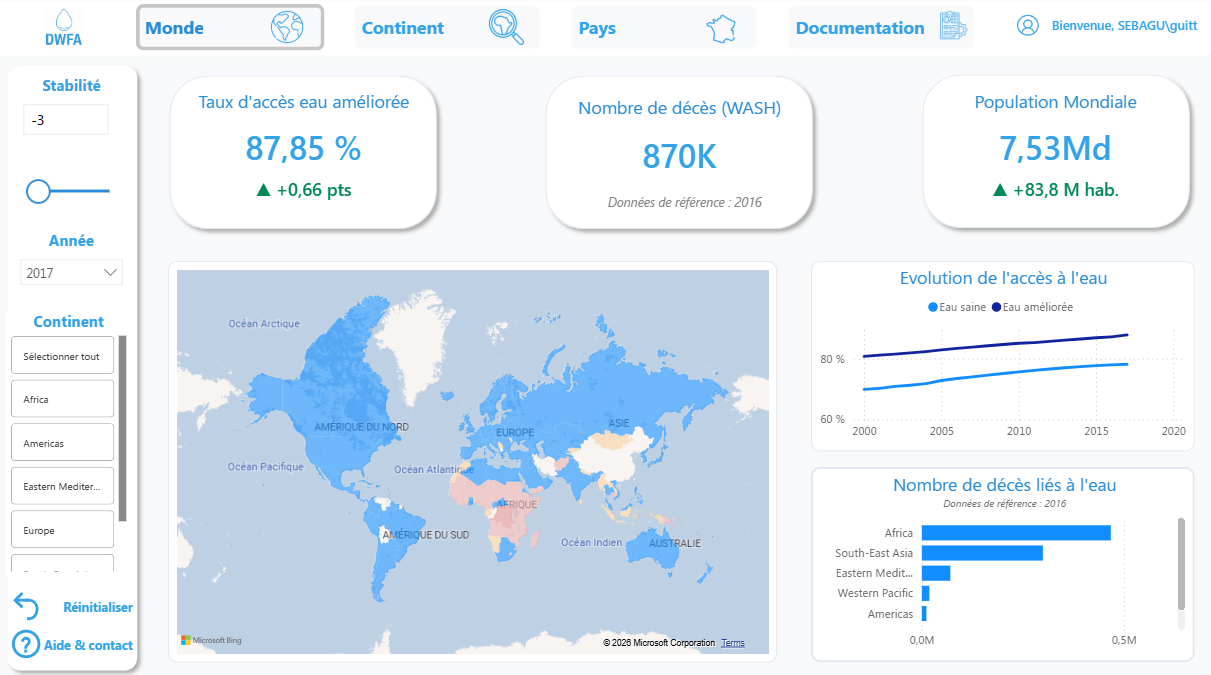

This screenshot's page, from the dashboard's own definition file:
{"tool":"powerbi","page":{"name":"Monde","canvas":[1280,720],"ordinal":0},"visuals":[{"type":"shape","box":[0,63.3,155,656.7],"z":0},{"type":"filledMap","fields":{"Category":["Dim_Country.Country"]},"box":[178.6,278.6,642.9,424.3],"z":1000},{"type":"shape","box":[170.6,74.3,300,180],"z":2000,"group":"g3"},{"type":"lineChart","title":"Evolution de l''accès à l''eau","fields":{"Category":["Dim_year.Year"],"Y":["_Mesures.Taux_Eau_Potable_Total","_Mesures.Taux_Eau_Basique_Total"]},"box":[857.6,278.8,404.7,201.2],"z":2000},{"type":"shape","box":[568.5,73.8,300,180],"z":3000,"group":"g2"},{"type":"barChart","title":"Nombre de décès liés à l''eau","fields":{"Category":["Dim_Country.Continent"],"Y":["_Mesures.Total_Morts_WASH"]},"box":[857.5,496.2,405,206.2],"z":3000},{"type":"shape","box":[966.4,72.6,300,180],"z":4000,"group":"g1"},{"type":"actionButton","box":[12.5,662.5,132.5,40],"z":4000},{"type":"actionButton","box":[12.5,622.5,132.5,40],"z":5000},{"type":"shape","box":[12.7,188.2,110.9,38.2],"z":6000},{"type":"group","id":"g1","title":"Groupe 1","box":[966.4,72.6,300,180],"z":7000},{"type":"group","id":"g2","title":"Groupe 2","box":[568.5,73.8,300,180],"z":8000},{"type":"group","id":"g3","title":"Groupe 3","box":[170.6,74.3,300,180],"z":9000},{"type":"shape","box":[0,0,1280,62.9],"z":10000},{"type":"image","box":[46,6.7,44,52],"z":11000},{"type":"cardVisual","fields":{"Data":["Projects_plans.Message_Bienvenue"]},"box":[1106.8,0,169.9,56.2],"z":12000},{"type":"image","box":[1074.7,16.1,22.7,28.1],"z":13000},{"type":"cardVisual","title":"Taux d''accès eau améliorée","fields":{"Data":["_Mesures.Tx_eau_amelioree_total","_Mesures.Affichage_evolution_eau_amelioree_"]},"box":[198.8,97.8,244.7,140],"z":13000,"group":"g3"},{"type":"pageNavigator","box":[144.7,7.1,887.1,49.4],"z":14000},{"type":"cardVisual","title":"Nombre de décès (WASH)","fields":{"Data":["_Mesures.Total_Morts_WASH"]},"box":[591.7,103.8,254.5,98.2],"z":14000,"group":"g2"},{"type":"slicer","title":"Stabilité","fields":{"Values":["Fact_Stability.Score_Filtre"]},"box":[12.4,82.4,127.6,171.8],"z":15000},{"type":"cardVisual","fields":{"Data":["Sum(Fact_Population.Population)","_Mesures.Evolution_Population_Affichage"]},"box":[984.1,96.5,263,140.6],"z":16000,"group":"g1"},{"type":"slicer","title":"Année","fields":{"Values":["Dim_year.Year"]},"box":[12.4,245.9,127.6,73.5],"z":16000},{"type":"image","box":[287.7,12.4,33.8,37.5],"z":17000},{"type":"textbox","box":[637.8,202.4,175.7,35.7],"z":17000,"group":"g2"},{"type":"image","box":[516.4,12.4,38.8,37.5],"z":18000},{"type":"image","box":[743.3,12.4,38.1,42.5],"z":19000},{"type":"image","box":[992.7,12.4,31.2,33.8],"z":20000},{"type":"advancedSlicerVisual","title":"Continent","fields":{"Values":["Dim_Country.Continent"]},"box":[7.7,331.5,132.3,280.8],"z":21000},{"type":"shape","box":[17.1,152.7,113.9,35.3],"z":22000}]}

Visuals, with their boxes on the page's 1280x720 design canvas (x1, y1, x2, y2). These are canvas units, not pixel positions in the 1211x675 screenshot, which may show the page scaled, cropped or inside an application window:
shape: Rect(0, 63, 155, 720)
filledMap - Dim_Country.Country: Rect(179, 279, 822, 703)
shape: Rect(171, 74, 471, 254)
"Evolution de l''accès à l''eau" lineChart: Rect(858, 279, 1262, 480)
shape: Rect(568, 74, 868, 254)
"Nombre de décès liés à l''eau" barChart: Rect(858, 496, 1262, 702)
shape: Rect(966, 73, 1266, 253)
actionButton: Rect(12, 662, 145, 702)
actionButton: Rect(12, 622, 145, 662)
shape: Rect(13, 188, 124, 226)
"Groupe 1" group: Rect(966, 73, 1266, 253)
"Groupe 2" group: Rect(568, 74, 868, 254)
"Groupe 3" group: Rect(171, 74, 471, 254)
shape: Rect(0, 0, 1280, 63)
image: Rect(46, 7, 90, 59)
cardVisual - Projects_plans.Message_Bienvenue: Rect(1107, 0, 1277, 56)
image: Rect(1075, 16, 1097, 44)
"Taux d''accès eau améliorée" cardVisual: Rect(199, 98, 444, 238)
pageNavigator: Rect(145, 7, 1032, 56)
"Nombre de décès (WASH)" cardVisual: Rect(592, 104, 846, 202)
"Stabilité" slicer: Rect(12, 82, 140, 254)
cardVisual - Sum(Fact_Population.Population) x _Mesures.Evolution_Population_Affichage: Rect(984, 96, 1247, 237)
"Année" slicer: Rect(12, 246, 140, 319)
image: Rect(288, 12, 322, 50)
textbox: Rect(638, 202, 814, 238)
image: Rect(516, 12, 555, 50)
image: Rect(743, 12, 781, 55)
image: Rect(993, 12, 1024, 46)
"Continent" advancedSlicerVisual: Rect(8, 332, 140, 612)
shape: Rect(17, 153, 131, 188)
